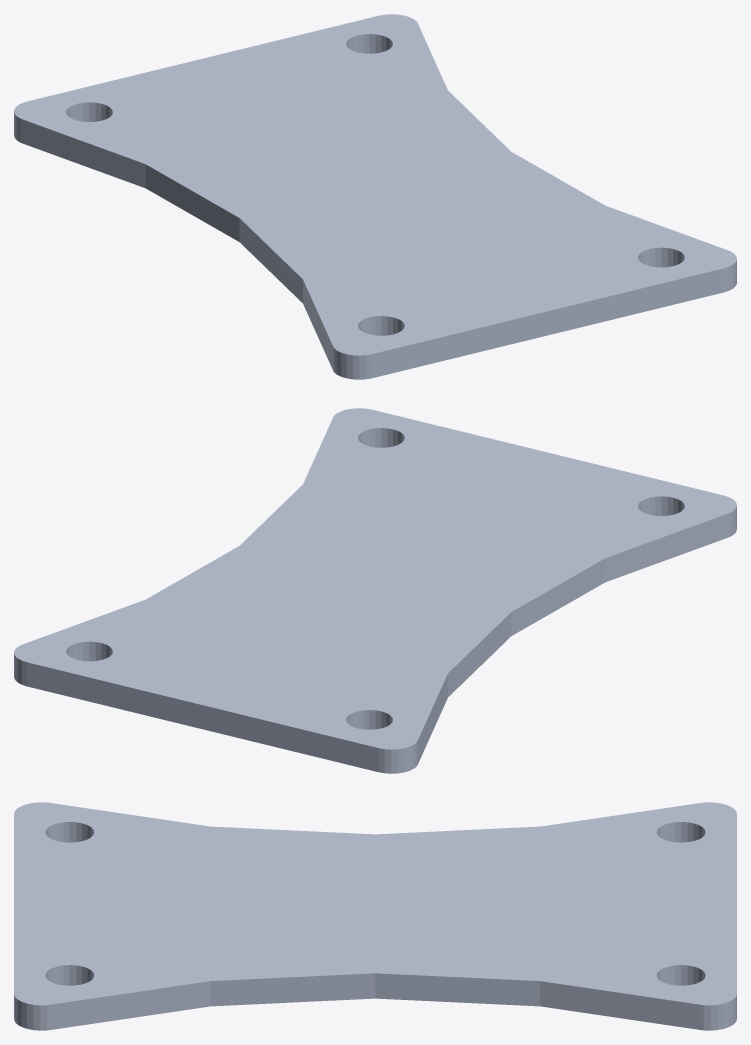
File: Hull_Bridge_01_Hull_Bridge.obj
3 renders of one model, top to bottom at view 1: azimuth 30°, elevation 25°; view 2: azimuth 150°, elevation 25°; view 3: azimuth 270°, elevation 25°, orthographic. The views are drawn at different scales.
Size of the model in its own units: 0.0546 by 0.00318 by 0.0822.
